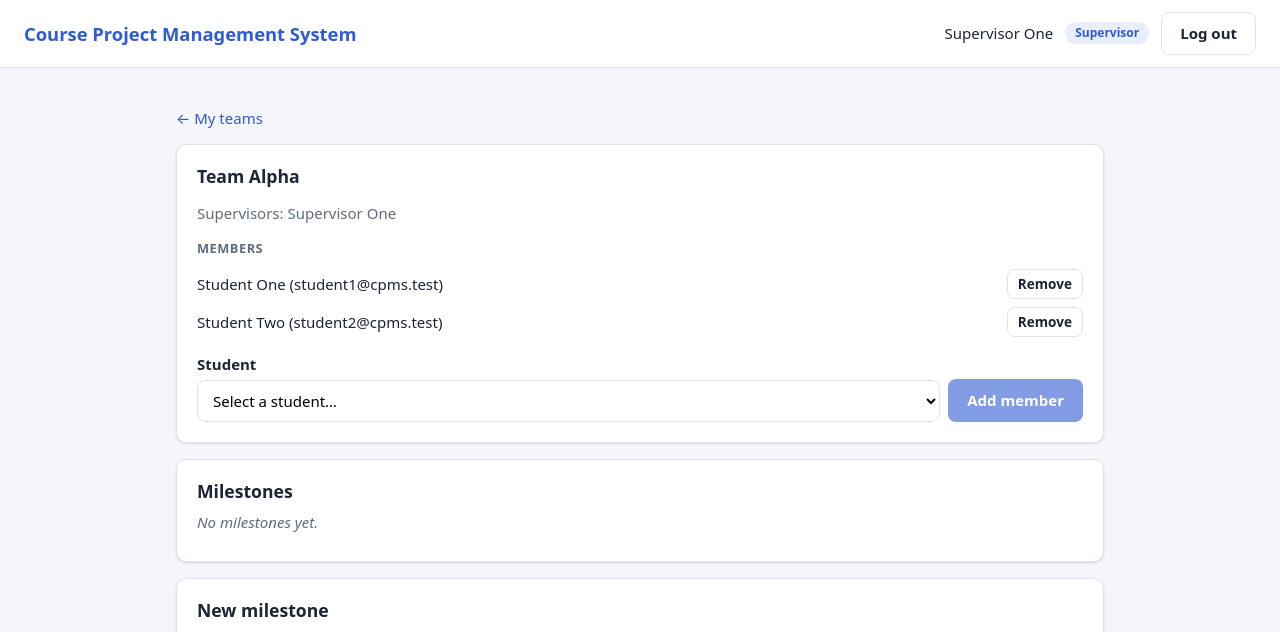
Test: F-13 Team management UI › TEST-13-13: supervisor adds an unassigned student and removes a member on /supervisor/teams/:id
This screenshot has width=1280, height=632.
expect the heading "Team Alpha" is shown: met, box [197,164,300,188]
409 shows alert without changing members
Select "Free Student (free@cpms.test)" in the dropdown labelled "Student" at (569, 401), box [197,380,940,422]
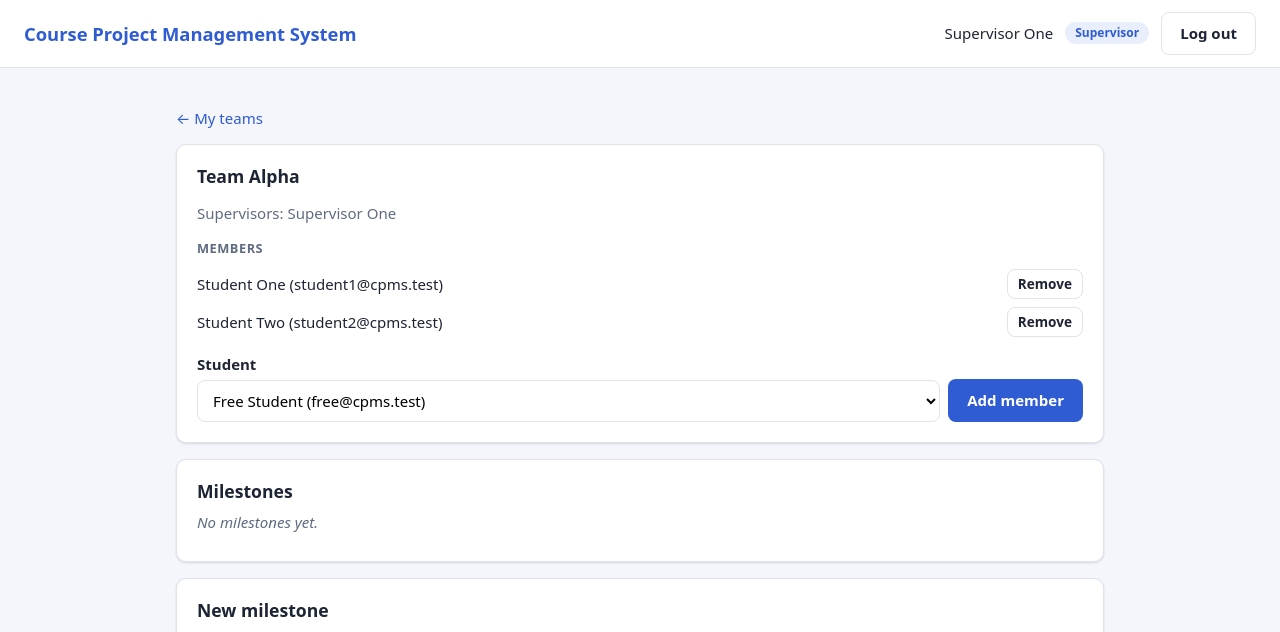
Click the button "Add member" at (1016, 401), box [948,380,1083,422]
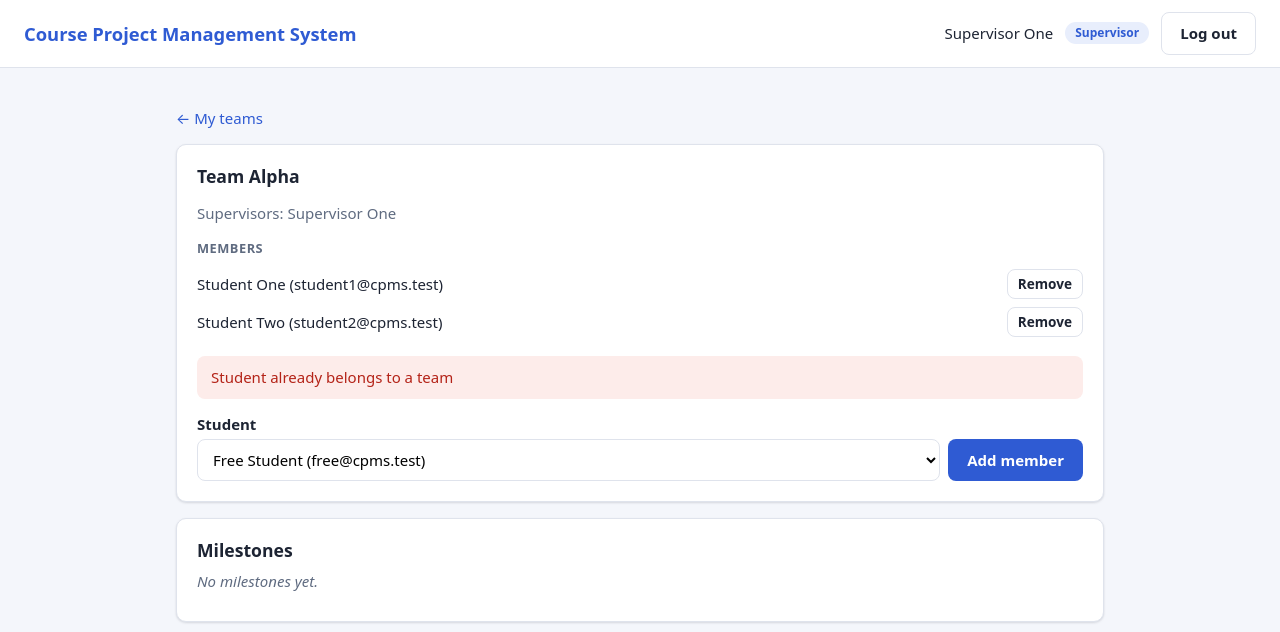
expect the message reads "Student already belongs to a team": met, box [211,368,453,388]
201 adds member and updates list
Select "Free Student (free@cpms.test)" in the dropdown labelled "Student" at (569, 460), box [197,440,940,482]
Click the button "Add member" at (1016, 460), box [948,439,1083,482]
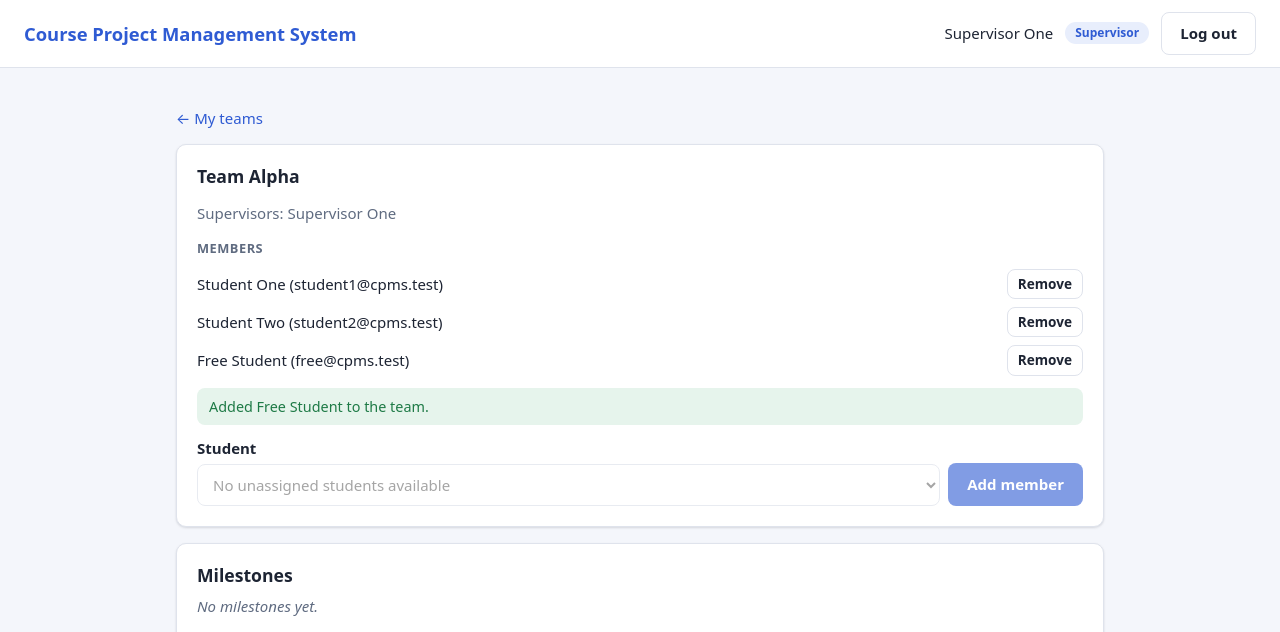
expect the button with aria-label "Remove Free Student" is shown: met, box [1007,346,1083,376]
expect the text "Free Student (free@cpms.test)" is shown: met, box [197,349,409,372]
200 removes Student Two
Click the button with aria-label "Remove Student Two" at (1045, 322), box [1007,307,1083,338]
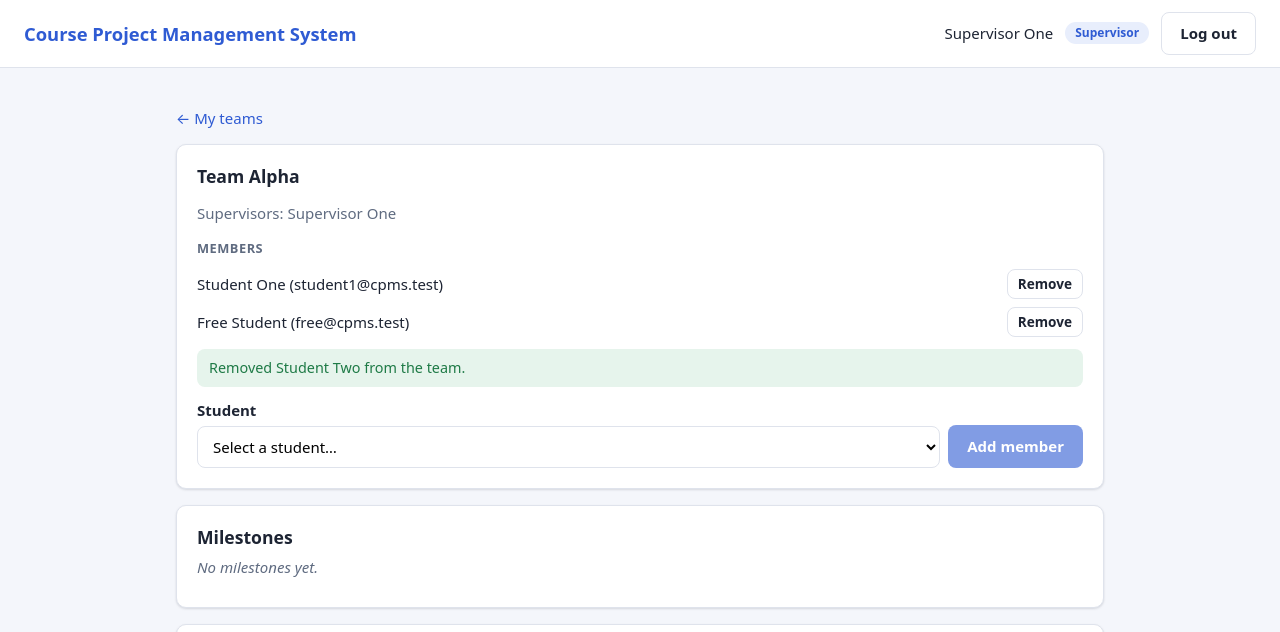
expect the text "Removed Student Two from the team." is shown: met, box [197,350,1083,387]
expect the list "Remove Student Two" is gone: met
